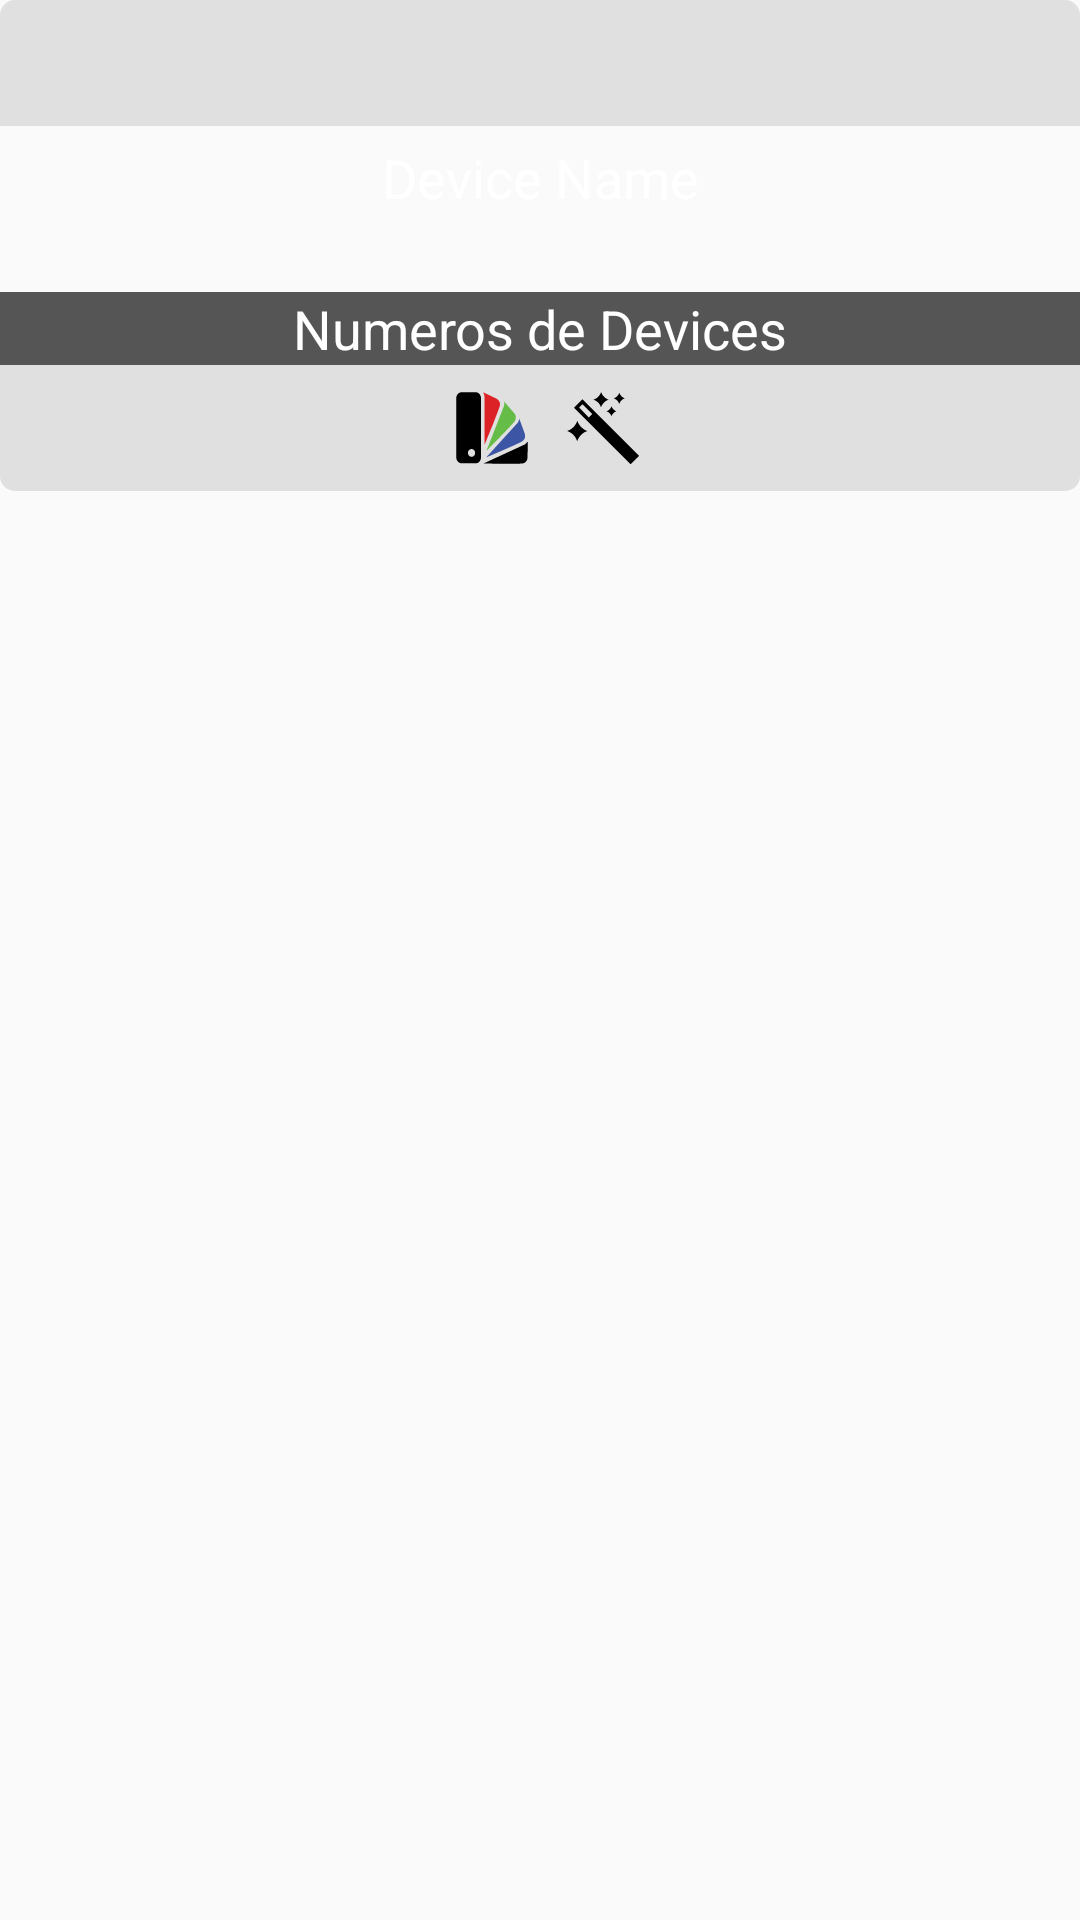

Icons on this 1080px×1920px Android screen, each with the point to tap as [x,y]:
colorpallet: [492,428]
effects: [603,428]
